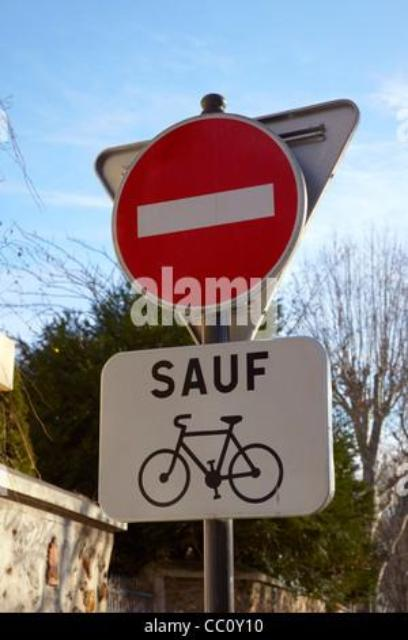B2: (107, 109, 309, 311)
